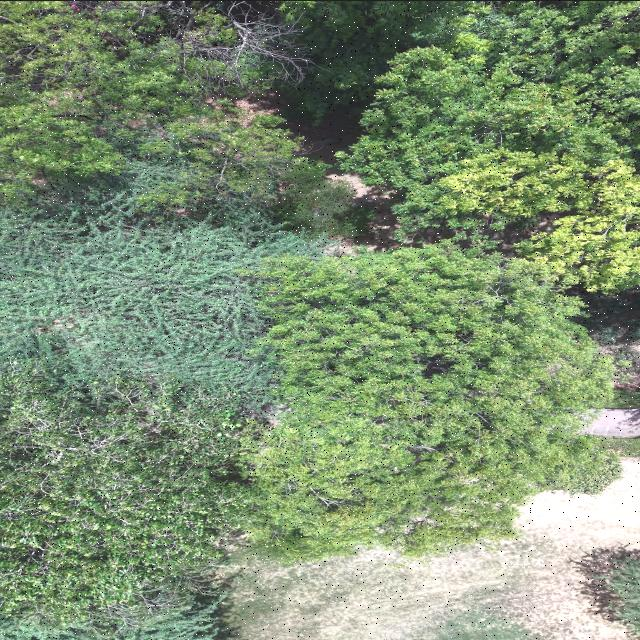DRY_AREA: (228, 459, 639, 639), (326, 167, 400, 251), (587, 408, 639, 436)
VEGETATION_TREE: (0, 1, 639, 639), (0, 1, 319, 637), (243, 242, 616, 559), (339, 1, 639, 291), (0, 364, 246, 624), (0, 208, 314, 408), (0, 1, 306, 204), (2, 104, 306, 226), (280, 1, 447, 119), (0, 593, 223, 639), (568, 287, 639, 407), (278, 161, 368, 237), (574, 546, 639, 639), (430, 610, 541, 639), (609, 558, 639, 634), (593, 435, 639, 457)
